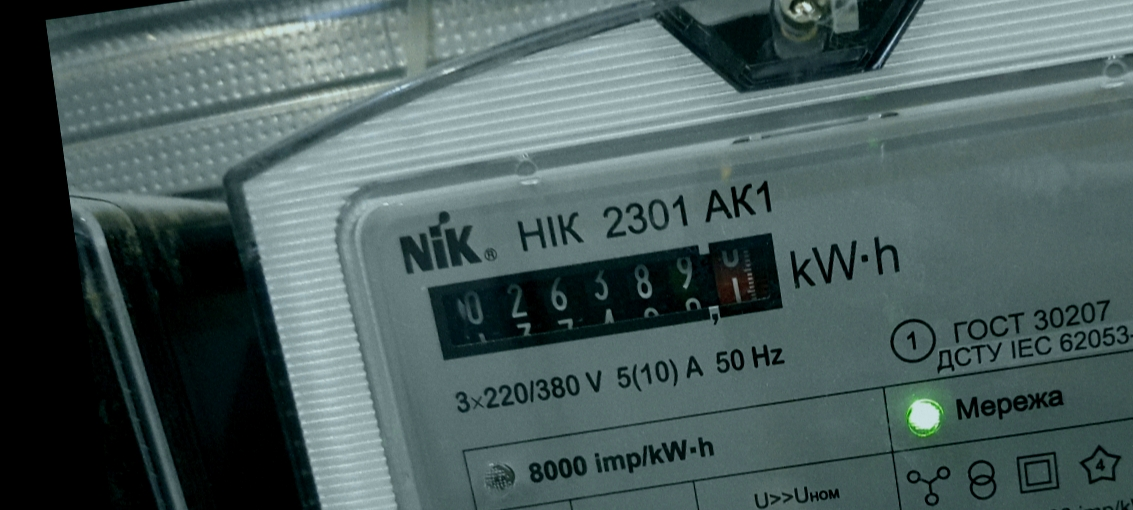0: (458, 284, 487, 327), (719, 245, 740, 268)
1: (727, 272, 744, 304)
2: (502, 278, 531, 319)
3: (588, 266, 610, 302)
6: (546, 271, 569, 313)
8: (630, 259, 656, 300)
9: (673, 253, 695, 289)
screen: (410, 218, 800, 373)
